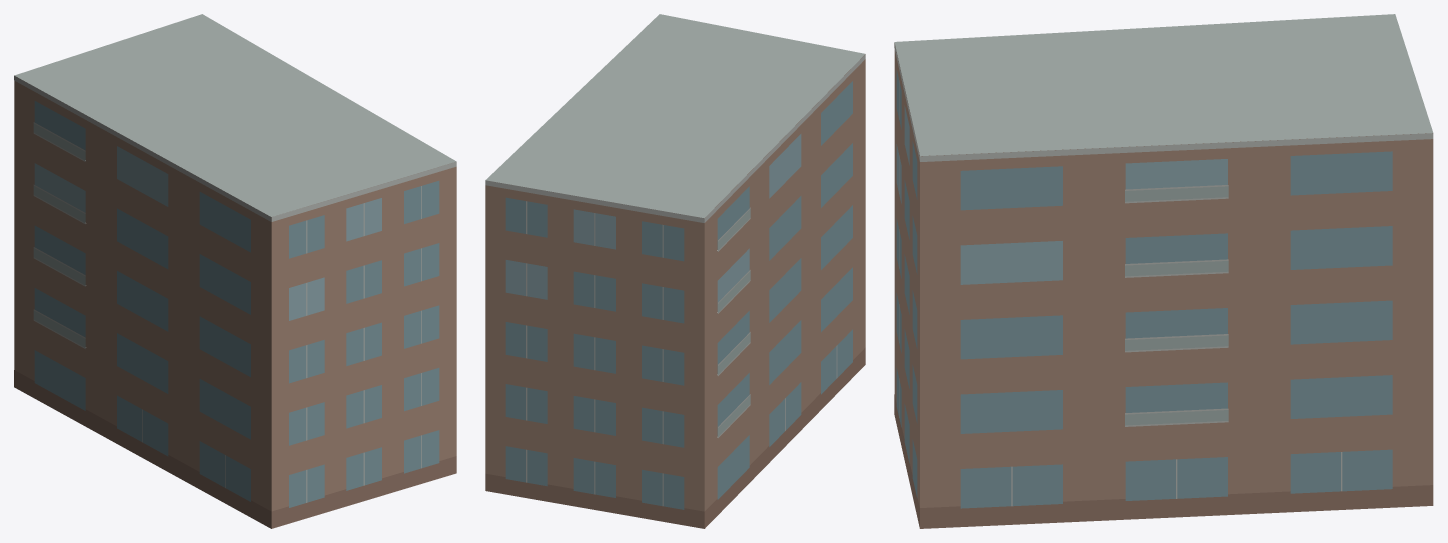
The model's file is survey-upis-32767322.glb.
3 renders of one model, left to right at view 1: azimuth 30°, elevation 25°; view 2: azimuth 150°, elevation 25°; view 3: azimuth 270°, elevation 25°, orthographic. The views are drawn at different scales.
Parts seen in each view (by area): view 1: survey-upis-32767322.tmp; view 2: survey-upis-32767322.tmp; view 3: survey-upis-32767322.tmp.
Boxes of the visible parts, x1,y1,x2,y2 form: survey-upis-32767322.tmp: (14,14,456,528); survey-upis-32767322.tmp: (485,14,865,528); survey-upis-32767322.tmp: (894,14,1433,528).
Bounding box in the file's own units: 12.49 × 15.25 × 20.
